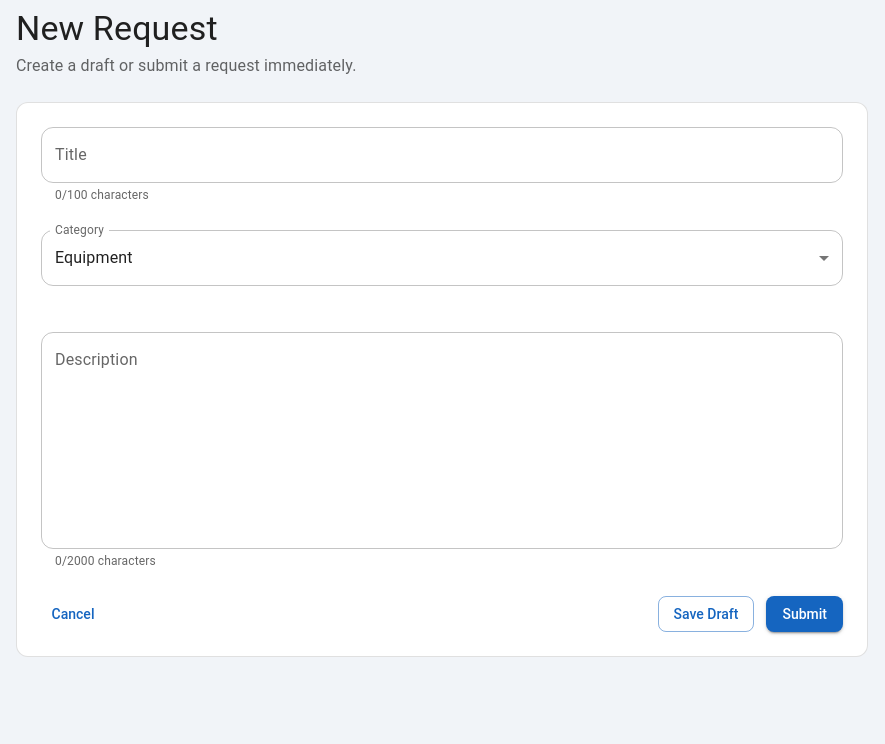
it: CreateRequestPage › shows API error
Type "New monitor request" into the field labelled "Title" at (442, 155), box x1=41 y1=127 x2=843 y2=183
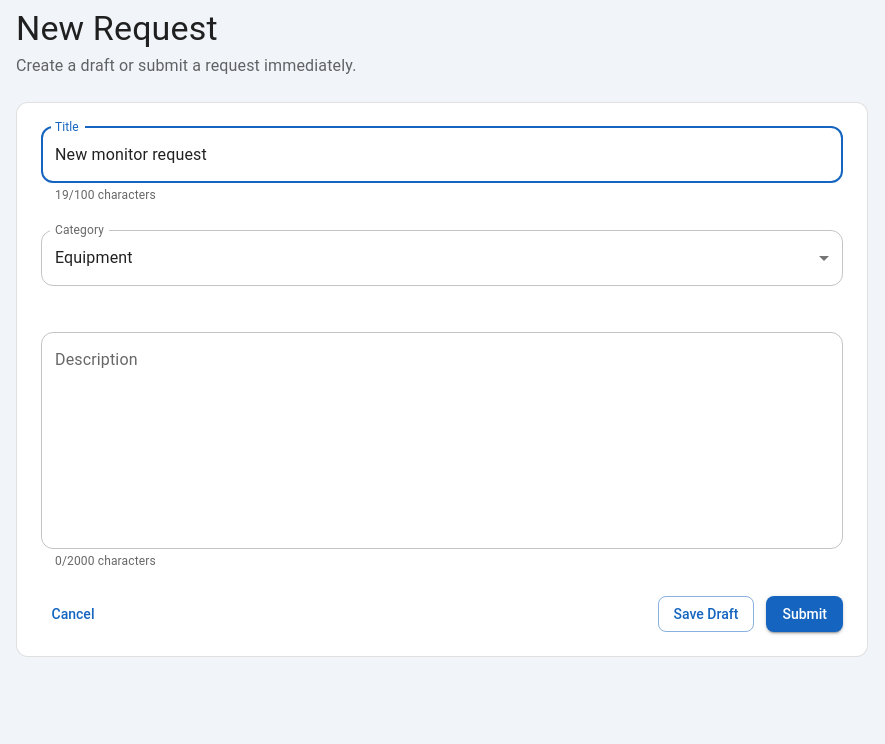
Type "Need dual monitors to improve productivity." into the text box labelled "Description" at (442, 440), box x1=55 y1=348 x2=829 y2=532
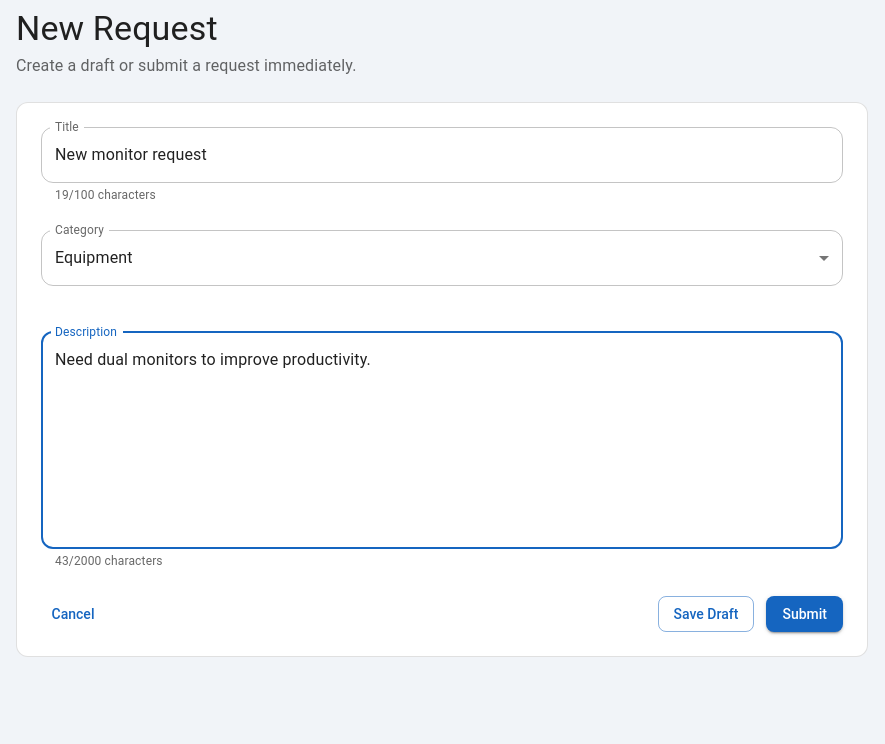
Click the button "Save Draft" at (706, 614), box x1=658 y1=596 x2=754 y2=632
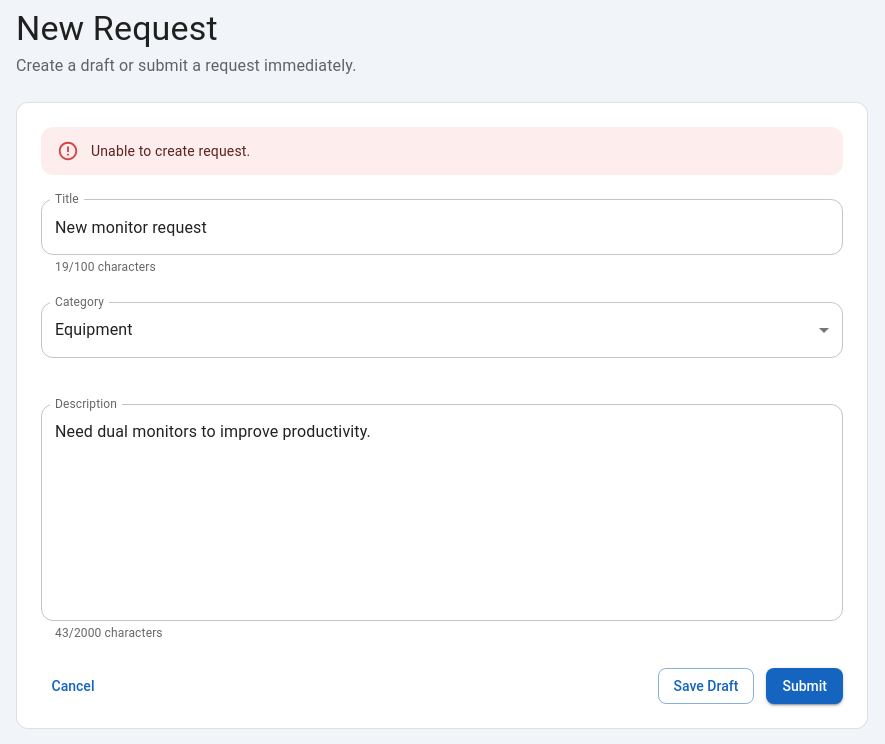
Expected: the text "Unable to create request." is shown, x1=91 y1=143 x2=250 y2=159
